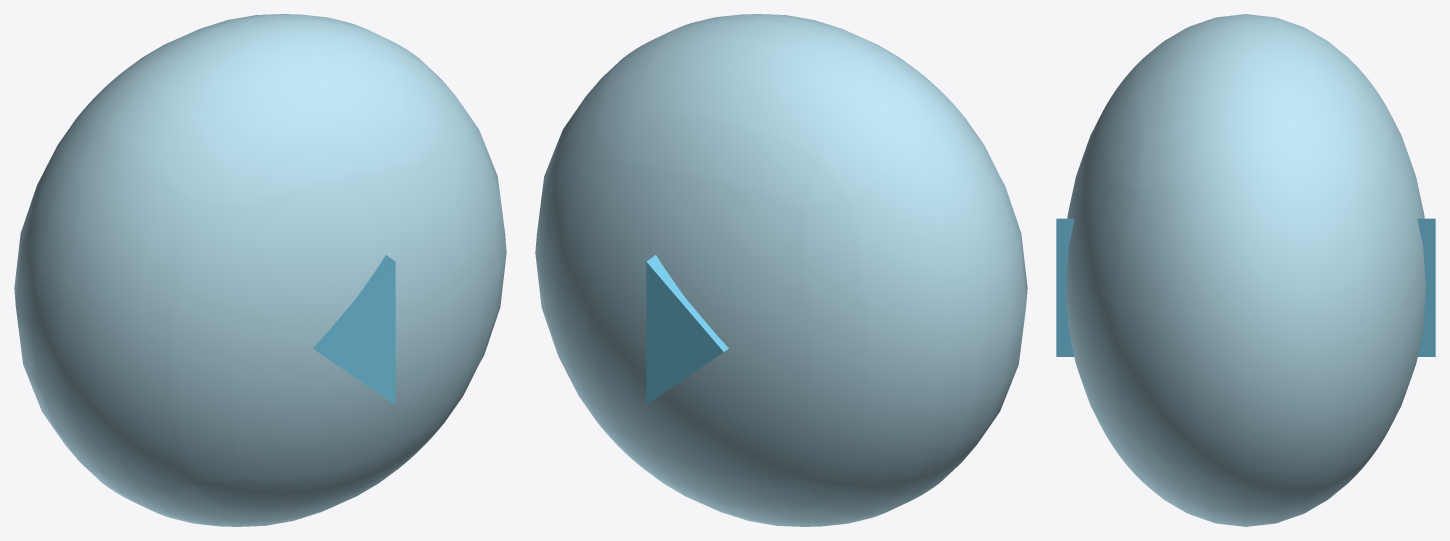
Rendered from play_button_animation_frame20.fbx.
3 renders of one model, left to right at view 1: azimuth 30°, elevation 25°; view 2: azimuth 150°, elevation 25°; view 3: azimuth 270°, elevation 25°, orthographic. The views are drawn at different scales.
Visible parts, largest first — view 1: Button, Triangle; view 2: Button, Triangle; view 3: Button, Triangle.
Boxes of the visible parts, x1,y1,x2,y2 form: Button: [14, 14, 506, 526]; Triangle: [313, 255, 395, 404]; Button: [535, 14, 1027, 526]; Triangle: [646, 255, 728, 404]; Button: [1066, 14, 1425, 526]; Triangle: [1056, 218, 1435, 356].
Size of the model in its own units: 329 by 333 by 245.
